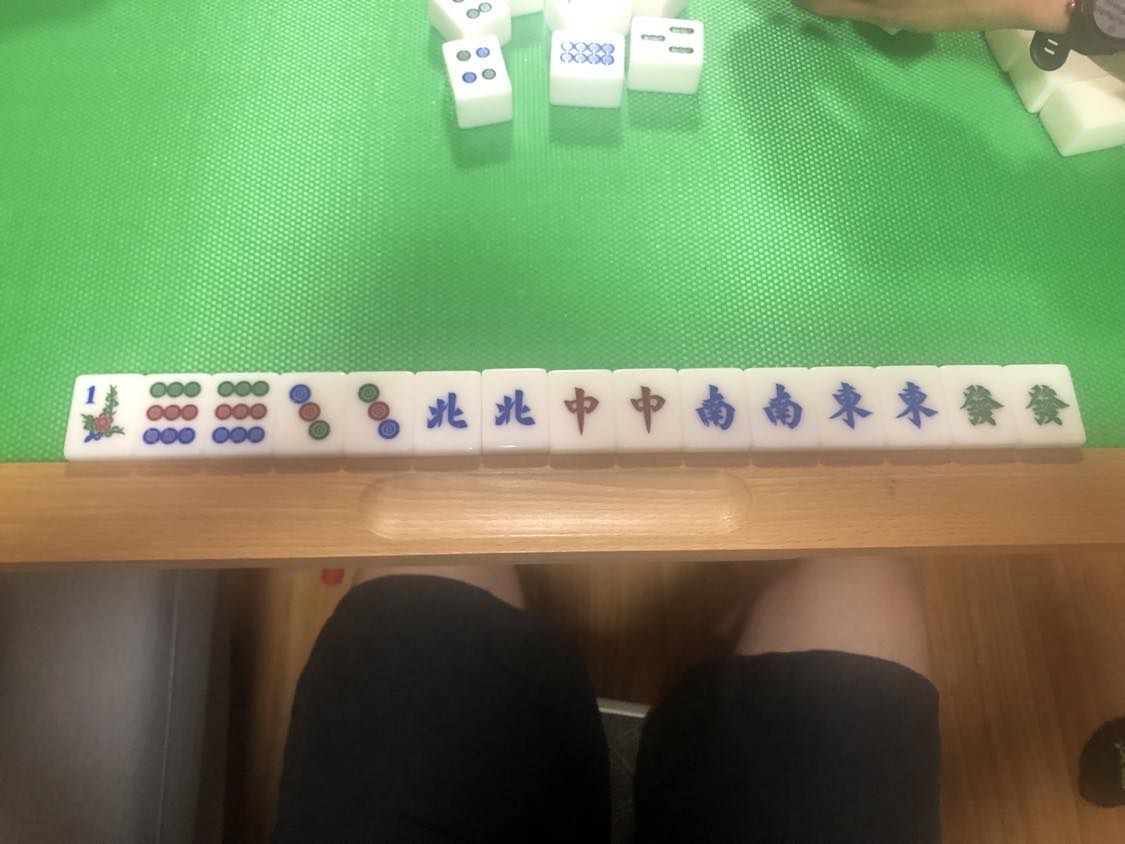circle-nine: (141, 377, 206, 450), (211, 375, 272, 449)
circle-three: (283, 378, 338, 449), (351, 380, 406, 444)
flower-blue_one: (74, 374, 130, 450)
honor-east_wind: (821, 374, 874, 434), (891, 373, 940, 433)
honor-green_dragon: (951, 373, 1007, 436), (1021, 370, 1073, 437)
honor-north_wind: (422, 378, 474, 443), (488, 378, 543, 439)
honor-red_dragon: (623, 375, 672, 438), (556, 377, 605, 437)
honor-south_wind: (693, 376, 743, 435), (759, 374, 806, 436)
